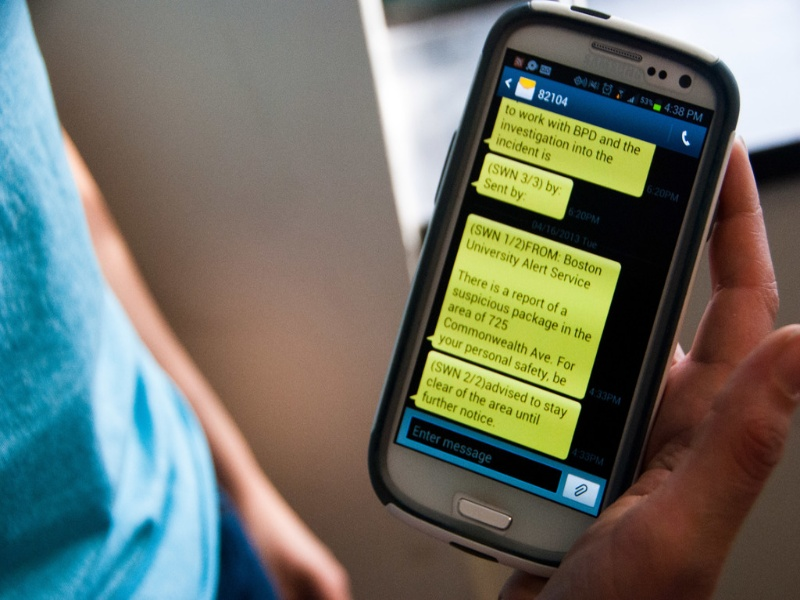cellphone: (390, 7, 737, 565)
